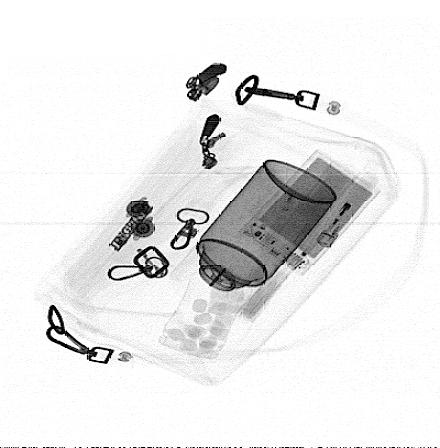Lighter: (314, 172, 380, 248)
Powerbank: (239, 148, 381, 277)
Sprayer: (167, 159, 337, 321)
